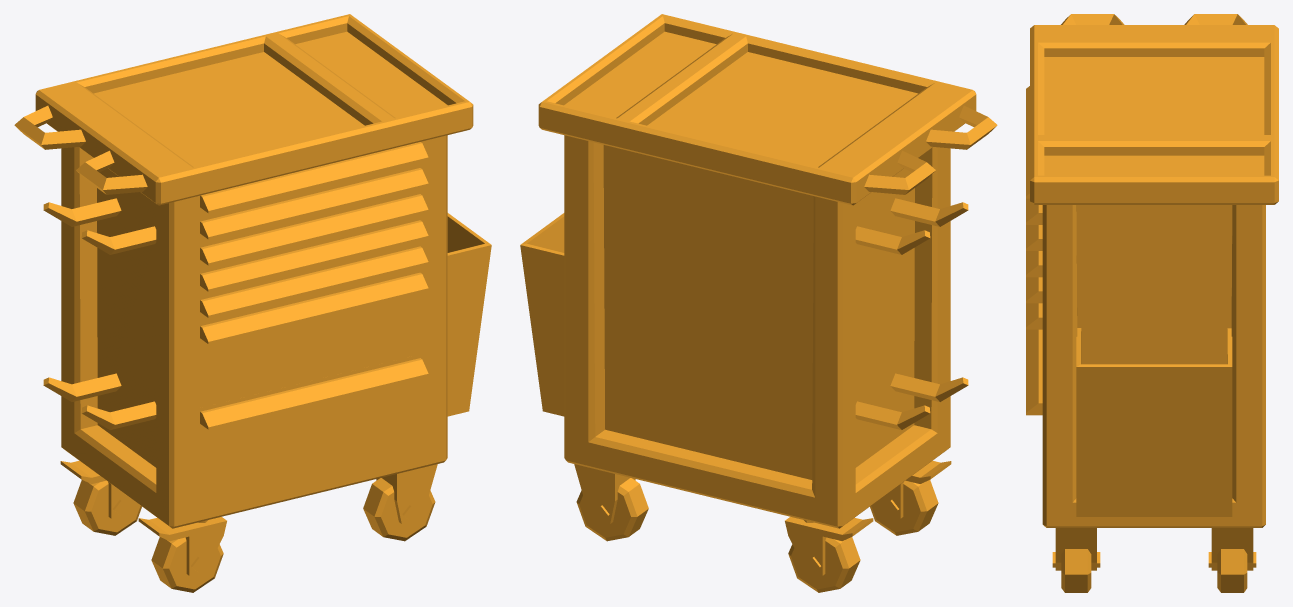
File: SM_Toolbox_Repair.fbx
3 views of the same model, side by side, from view 1: azimuth 30°, elevation 25°; view 2: azimuth 150°, elevation 25°; view 3: azimuth 270°, elevation 25° (orthographic).
Parts seen in each view (by area): view 1: SM_Toolbox_Repair_Base, SM_Toolbox_Repair_Drawer_Big, SM_Toolbox_Repair_Drawer_Small; view 2: SM_Toolbox_Repair_Base; view 3: SM_Toolbox_Repair_Base, SM_Toolbox_Repair_Drawer_Big, SM_Toolbox_Repair_Drawer_Small.
Part boxes in pixels (x1,y1,x2,y2): SM_Toolbox_Repair_Base: (14, 14, 491, 592); SM_Toolbox_Repair_Drawer_Big: (200, 354, 428, 493); SM_Toolbox_Repair_Drawer_Small: (200, 142, 428, 217); SM_Toolbox_Repair_Base: (520, 14, 997, 592); SM_Toolbox_Repair_Base: (1026, 14, 1278, 592); SM_Toolbox_Repair_Drawer_Big: (1026, 329, 1042, 415); SM_Toolbox_Repair_Drawer_Small: (1026, 86, 1029, 198).
Size of the model in its own units: 0.949 by 1.01 by 0.5263.
